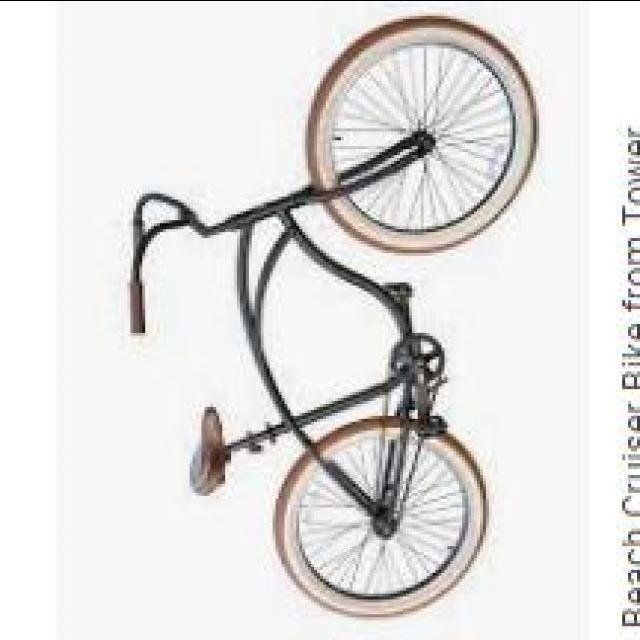bicycle: (138, 27, 541, 629)
